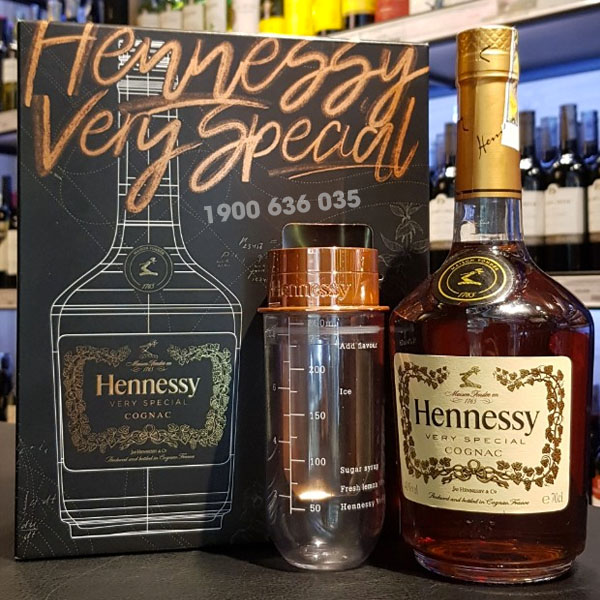Hennessy: (374, 15, 600, 596)
